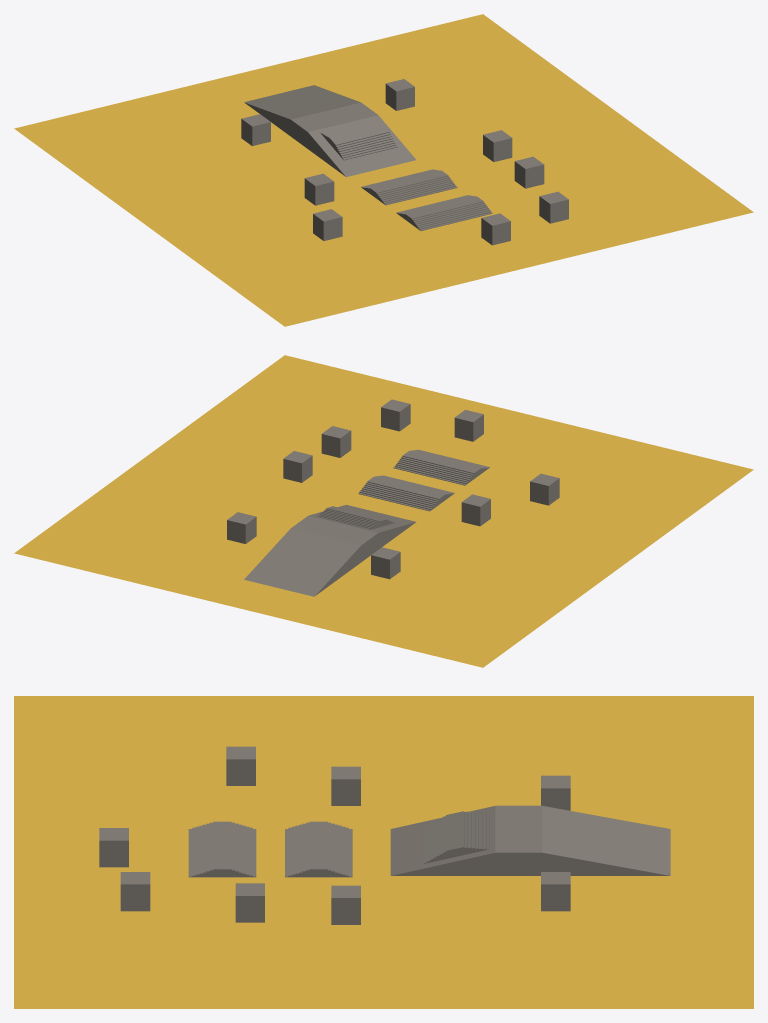
3 views of the same model, one above another, from view 1: azimuth 30°, elevation 25°; view 2: azimuth 150°, elevation 25°; view 3: azimuth 270°, elevation 25° (orthographic). The views are drawn at different scales.
Parts seen in each view (by area): view 1: 平面, 立方体.009, 立方体.001, 立方体.011, 立方体.010, 立方体.003, 立方体, 立方体.004, 立方体.006, 立方体.008, 立方体.005, 立方体.007 (+1 smaller); view 2: 平面, 立方体.009, 立方体.011, 立方体.010, 立方体.001, 立方体.003, 立方体.004, 立方体.005, 立方体.007, 立方体, 立方体.002, 立方体.008 (+1 smaller); view 3: 平面, 立方体.009, 立方体.010, 立方体.011, 立方体.001, 立方体.004, 立方体, 立方体.002, 立方体.003, 立方体.005, 立方体.006, 立方体.007 (+1 smaller).
Part boxes in pixels (left/top/right/bottom): 平面: left=14, top=14, right=753, bottom=326; 立方体.009: left=244, top=85, right=416, bottom=176; 立方体.001: left=320, top=119, right=397, bottom=160; 立方体.011: left=361, top=169, right=457, bottom=205; 立方体.010: left=396, top=195, right=492, bottom=230; 立方体.003: left=514, top=156, right=544, bottom=188; 立方体: left=304, top=173, right=334, bottom=205; 立方体.004: left=539, top=191, right=568, bottom=223; 立方体.006: left=481, top=213, right=510, bottom=245; 立方体.008: left=241, top=114, right=270, bottom=146; 立方体.005: left=313, top=209, right=342, bottom=240; 立方体.007: left=385, top=79, right=414, bottom=110; 平面: left=14, top=355, right=753, bottom=667; 立方体.009: left=244, top=504, right=415, bottom=596; 立方体.011: left=358, top=475, right=454, bottom=511; 立方体.010: left=393, top=449, right=489, bottom=485; 立方体.001: left=317, top=506, right=394, bottom=529; 立方体.003: left=321, top=426, right=351, bottom=457; 立方体.004: left=381, top=399, right=410, bottom=431; 立方体.005: left=530, top=473, right=559, bottom=505; 立方体.007: left=227, top=512, right=256, bottom=543; 立方体: left=461, top=494, right=490, bottom=526; 立方体.002: left=283, top=451, right=312, bottom=482; 立方体.008: left=371, top=547, right=400, bottom=579; 平面: left=14, top=696, right=753, bottom=1008; 立方体.009: left=390, top=805, right=670, bottom=875; 立方体.010: left=188, top=821, right=256, bottom=877; 立方体.011: left=285, top=821, right=352, bottom=877; 立方体.001: left=424, top=811, right=489, bottom=863; 立方体.004: left=120, top=872, right=150, bottom=911; 立方体: left=331, top=766, right=360, bottom=805; 立方体.002: left=331, top=885, right=360, bottom=924; 立方体.003: left=235, top=883, right=264, bottom=922; 立方体.005: left=226, top=746, right=255, bottom=785; 立方体.006: left=99, top=828, right=128, bottom=867; 立方体.007: left=541, top=872, right=570, bottom=911.
Bounding box in the file's own units: 200 × 8.22 × 200.
